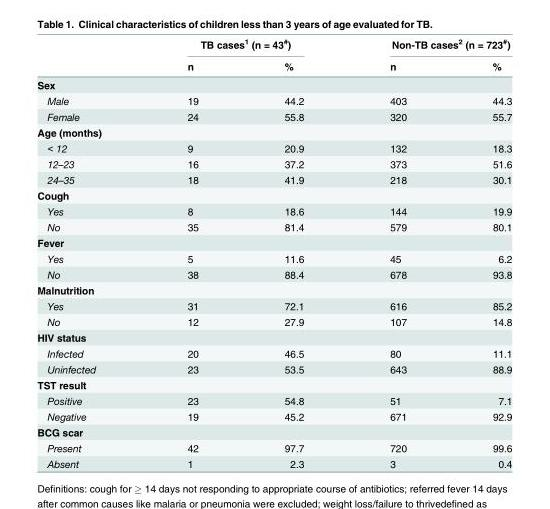table: (36, 36, 511, 469)
table column: (36, 36, 143, 469), (240, 36, 346, 469), (346, 36, 448, 469), (143, 36, 240, 469), (448, 36, 511, 469)
table column header: (36, 36, 511, 75)
table projected row header: (36, 75, 511, 92), (36, 234, 511, 250), (36, 329, 511, 345), (36, 376, 511, 392), (36, 124, 511, 139), (36, 187, 511, 202), (36, 282, 511, 297), (36, 424, 511, 439)
table row: (36, 54, 511, 75), (36, 36, 511, 54), (36, 75, 511, 92), (36, 92, 511, 108), (36, 108, 511, 124), (36, 139, 511, 155), (36, 155, 511, 171), (36, 171, 511, 187), (36, 202, 511, 218), (36, 218, 511, 234), (36, 234, 511, 250), (36, 250, 511, 266), (36, 266, 511, 282), (36, 297, 511, 313), (36, 313, 511, 329), (36, 329, 511, 345), (36, 360, 511, 376), (36, 376, 511, 392), (36, 392, 511, 408), (36, 408, 511, 424), (36, 439, 511, 455), (36, 124, 511, 139), (36, 187, 511, 202), (36, 282, 511, 297), (36, 345, 511, 360), (36, 424, 511, 439), (36, 455, 511, 469)
table spanning cell: (143, 36, 346, 54), (346, 36, 511, 54)
